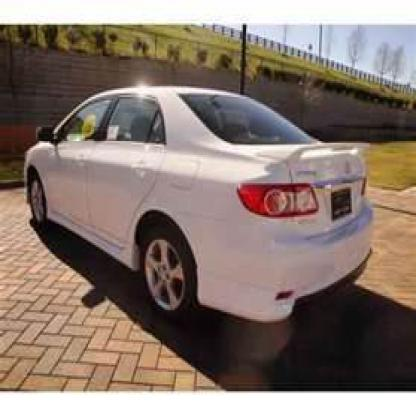Vehicle: (22, 83, 379, 338)
